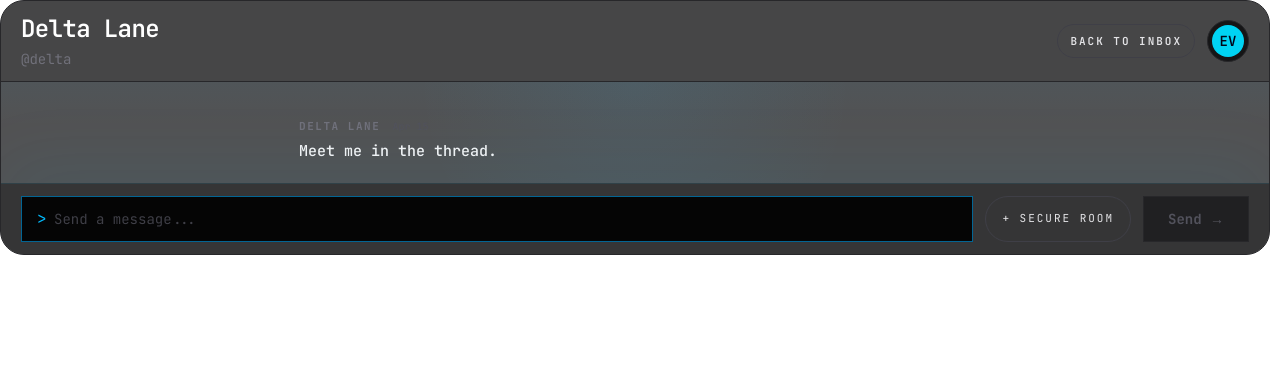
PersonalConversation › marks the optimistic message failed and does not retry over HTTP after realtime ack failure
Step 1. Type "Socket-only failure" into the field with placeholder "Send a message..." → coordinates (497, 218), box [21,196,974,242]
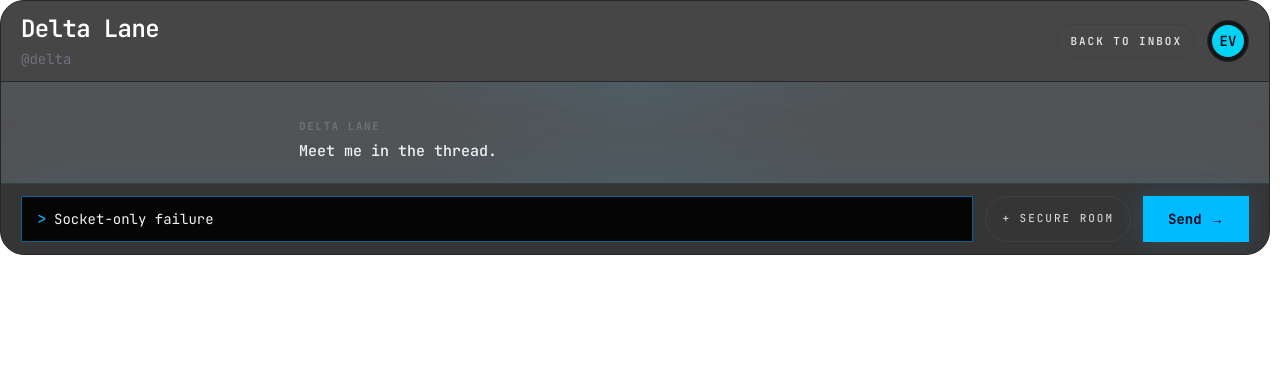
Step 2. Click the button "Send →" → coordinates (1196, 218), box [1143,196,1249,242]
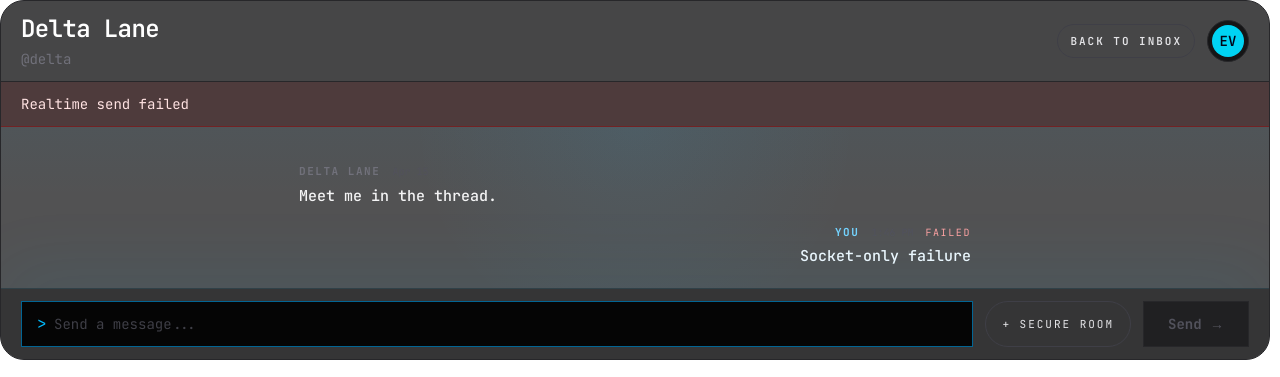
Expected: the text "Realtime send failed" is shown, [1,82,1269,127]
